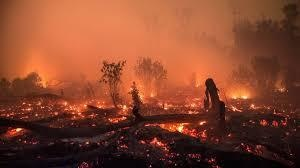fire: (230, 89, 250, 100)
